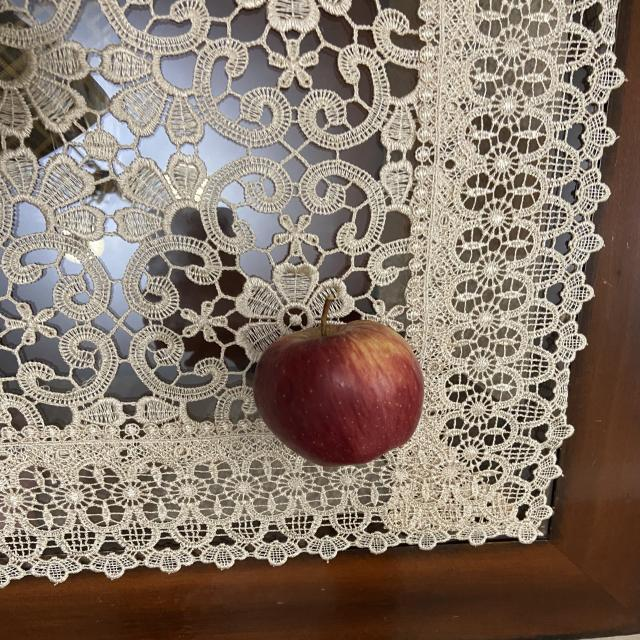apple: (252, 299, 428, 466)
